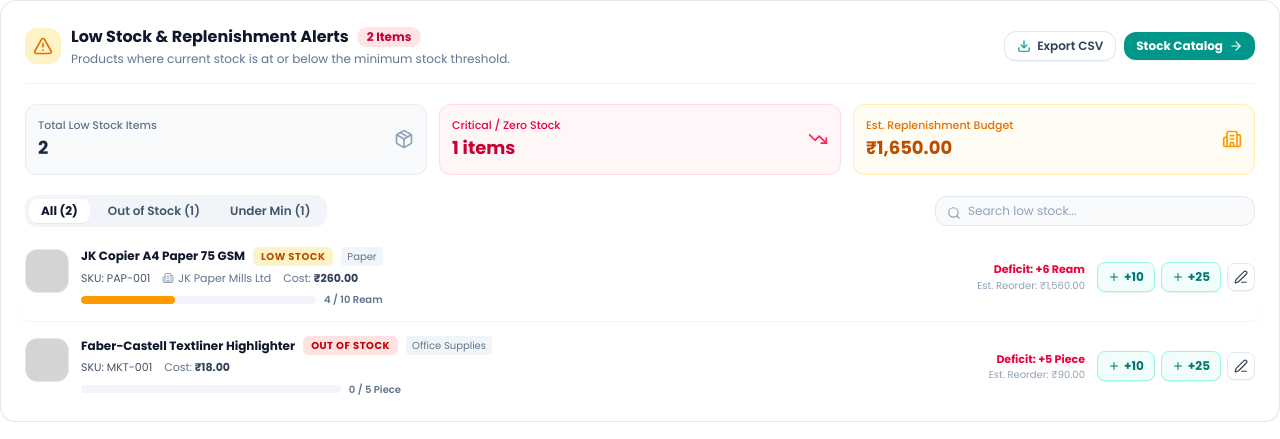
LowStockWidget › filters out of stock only when tab clicked
Step 1. Click the button "Out of Stock (1)" → (154, 210), box left=96, top=198, right=212, bottom=222
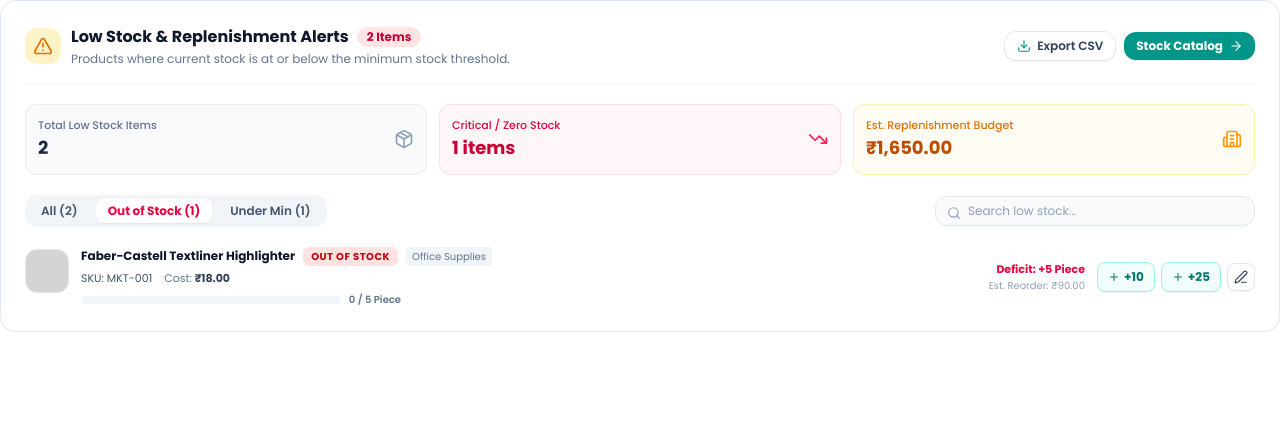
Expected: the text "Faber-Castell Textliner Highlighter" is shown, left=81, top=248, right=295, bottom=264
Result: the text "JK Copier A4 Paper 75 GSM" is gone
